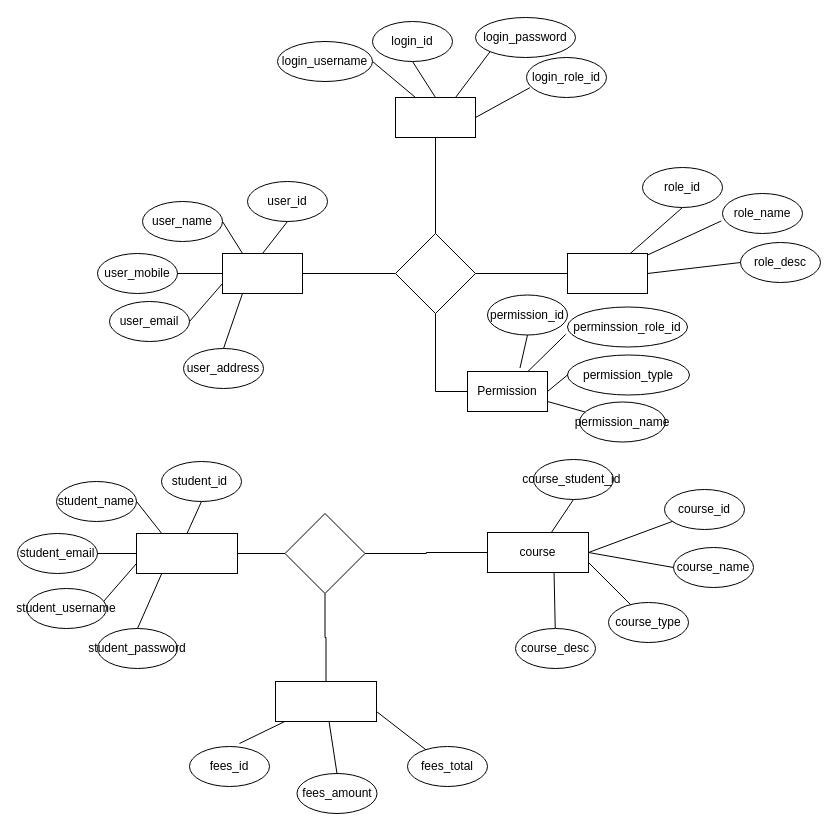
Image size: 838x831. Some labels were removed from this diagram. Each missing label, with the box of its shape:
fees: (274, 680, 376, 722)
has: (394, 232, 476, 314)
Login: (394, 96, 476, 138)
manage: (284, 512, 365, 594)
Roles: (566, 252, 648, 294)
student: (136, 532, 238, 574)
user: (222, 252, 302, 294)
